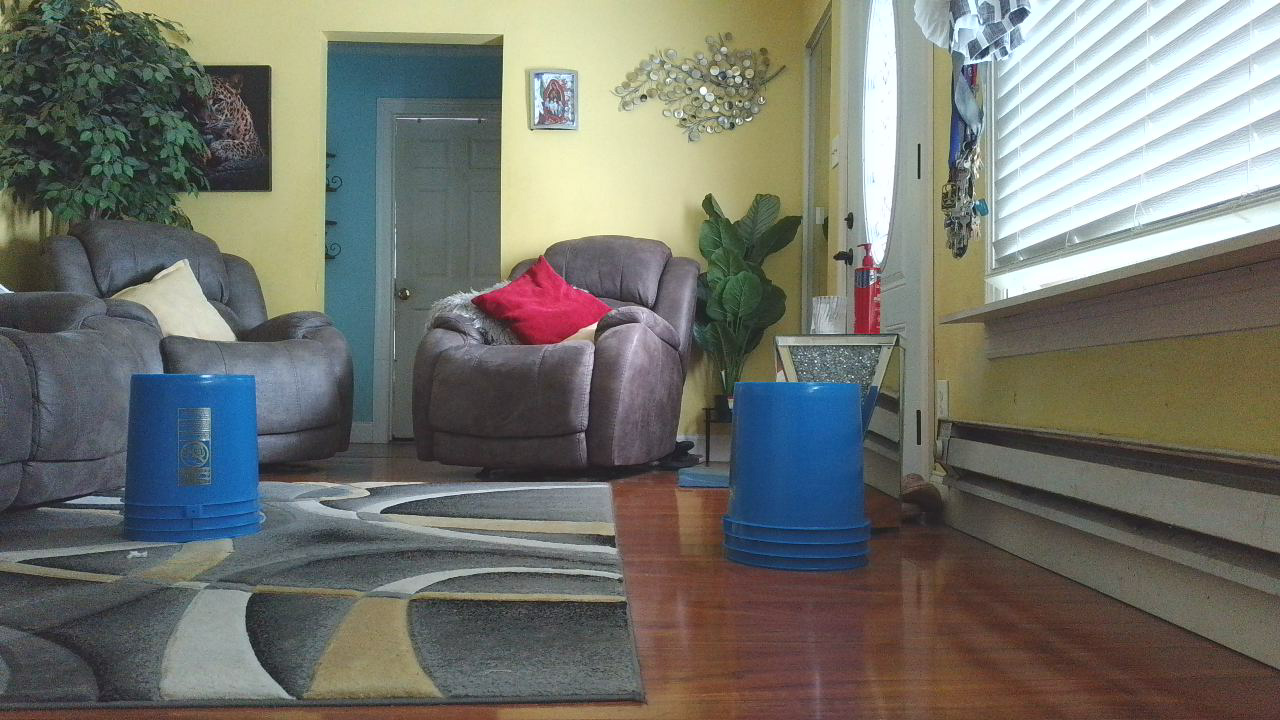blue_bucket: (723, 380, 882, 584), (117, 375, 273, 552)
